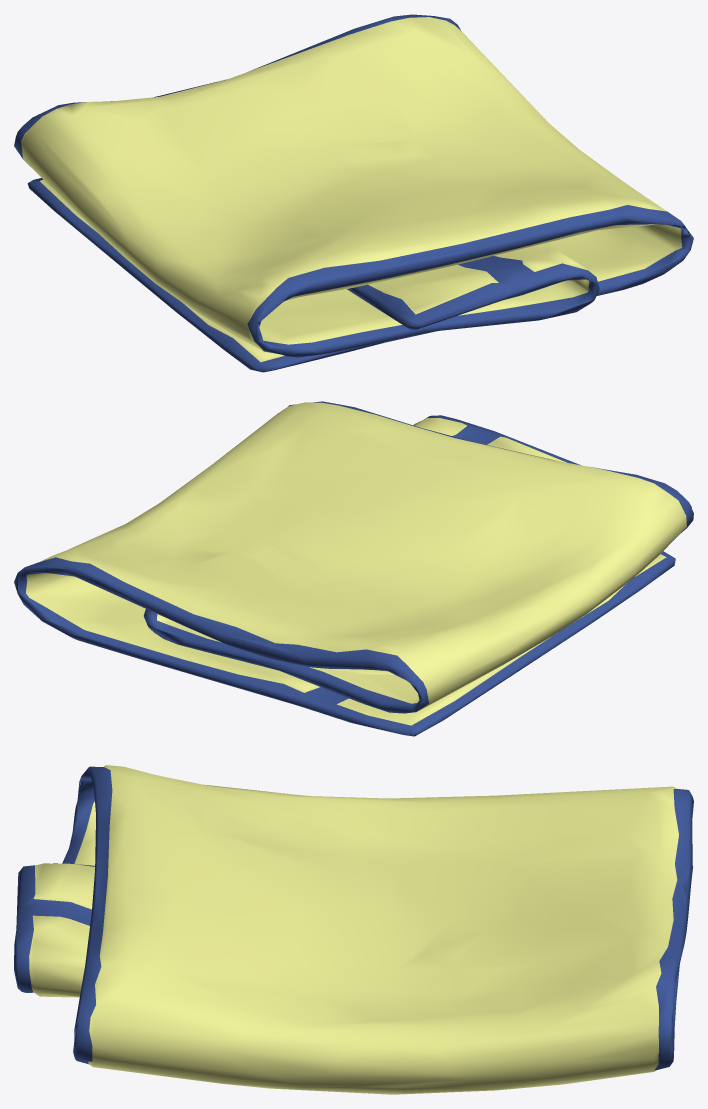
Rendered from Clothing 2.FBX.
3 renders of one model, top to bottom at view 1: azimuth 30°, elevation 25°; view 2: azimuth 150°, elevation 25°; view 3: azimuth 270°, elevation 25°, orthographic. The views are drawn at different scales.
Visible parts, largest first — view 1: clothing 2; view 2: clothing 2; view 3: clothing 2.
Boxes of the visible parts, left/top/right/bottom form: clothing 2: left=14, top=14, right=693, bottom=372; clothing 2: left=14, top=401, right=693, bottom=736; clothing 2: left=14, top=765, right=693, bottom=1094.
Size of the model in its own units: 24.69 by 4.93 by 27.22.
